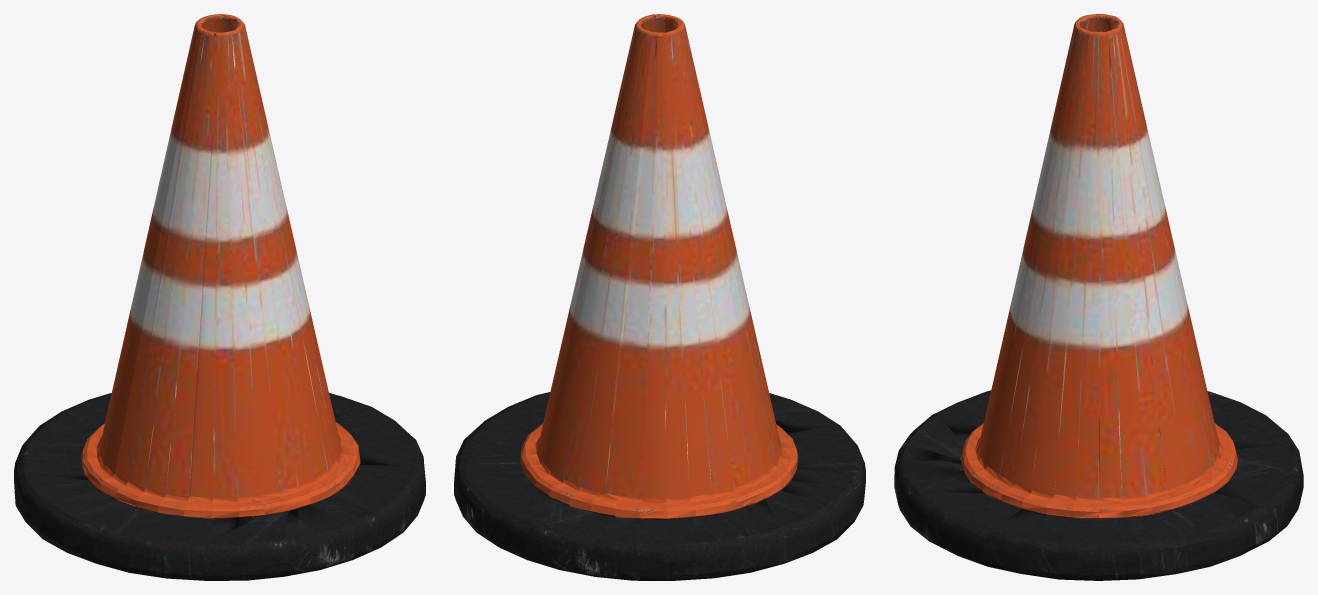
3 renders of one model, left to right at view 1: azimuth 30°, elevation 25°; view 2: azimuth 150°, elevation 25°; view 3: azimuth 270°, elevation 25°, orthographic.
Visible parts, largest first — view 1: Prop_cone_b; view 2: Prop_cone_b; view 3: Prop_cone_b.
Boxes of the visible parts, x1,y1,x2,y2 form: Prop_cone_b: (14,14,425,580); Prop_cone_b: (454,14,865,580); Prop_cone_b: (894,14,1303,580).
Bounding box in the file's own units: 0.4 × 0.5041 × 0.3959.
1 material, 1 textured.
